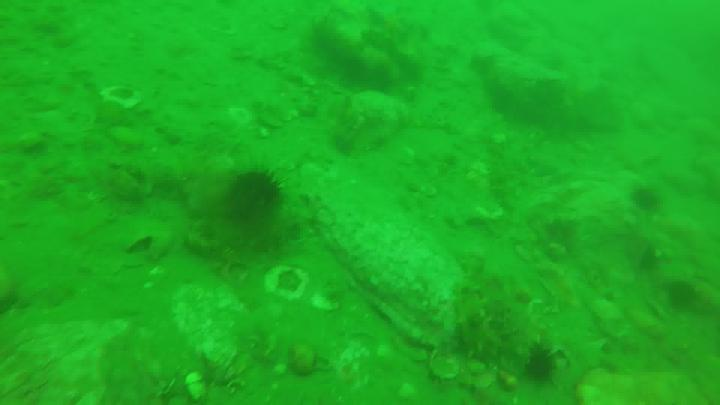echinus: (222, 170, 283, 226), (527, 350, 557, 384), (631, 184, 663, 215)
holothurian: (455, 284, 502, 362)
scallop: (100, 82, 147, 111), (264, 267, 306, 299)
